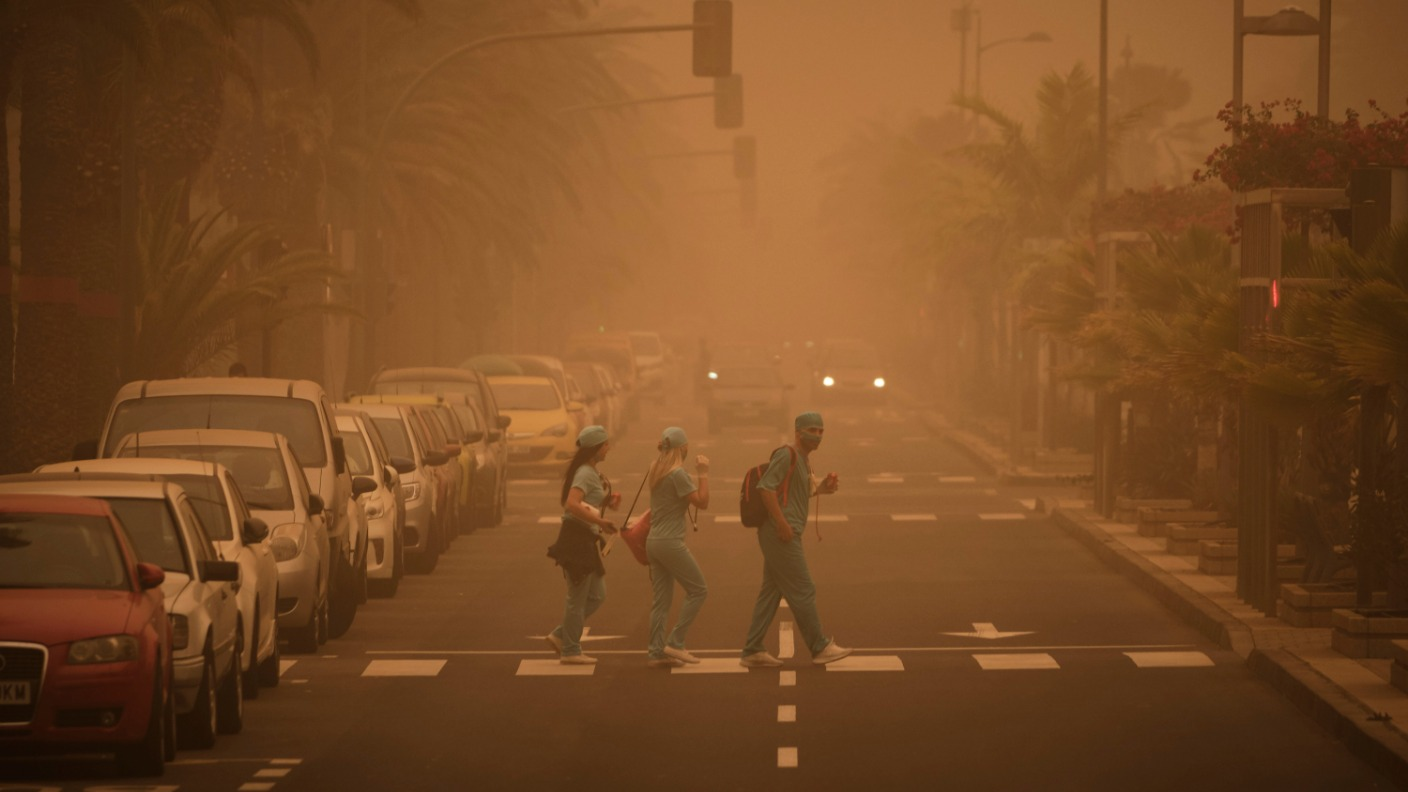person: (752, 411, 839, 674), (641, 425, 714, 665)
